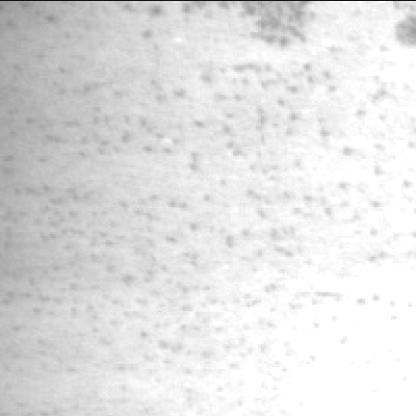pitted_surface: (0, 12, 412, 416)
